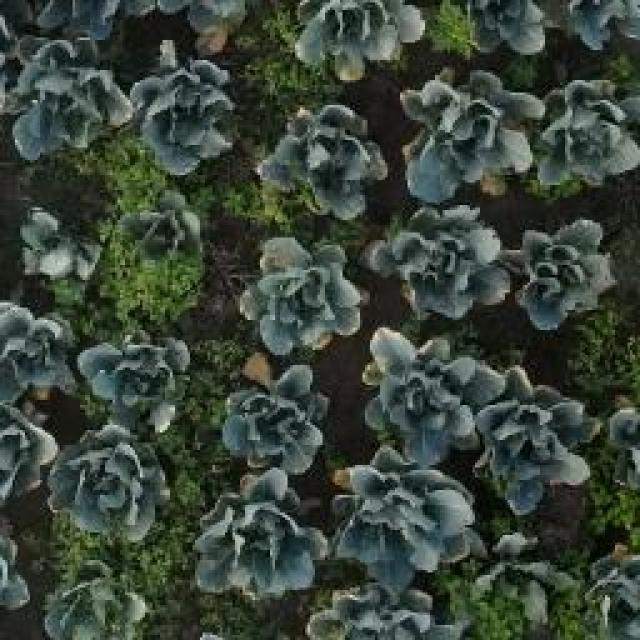cabbage: (482, 360, 601, 516), (403, 74, 541, 203), (339, 464, 479, 584), (376, 204, 519, 314), (188, 488, 332, 594), (56, 425, 177, 550), (367, 326, 480, 454), (240, 235, 360, 348), (512, 216, 625, 333), (2, 37, 112, 155), (76, 332, 204, 428), (260, 116, 380, 215), (228, 363, 329, 473), (126, 72, 232, 173), (547, 76, 640, 185), (43, 561, 157, 640), (6, 199, 110, 285), (298, 0, 420, 70), (124, 186, 214, 271), (0, 302, 70, 410), (456, 0, 550, 59)
